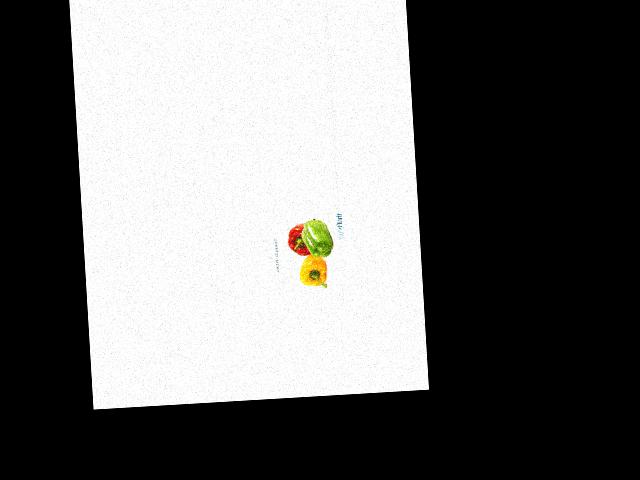bell_pepper: (301, 216, 337, 261)
